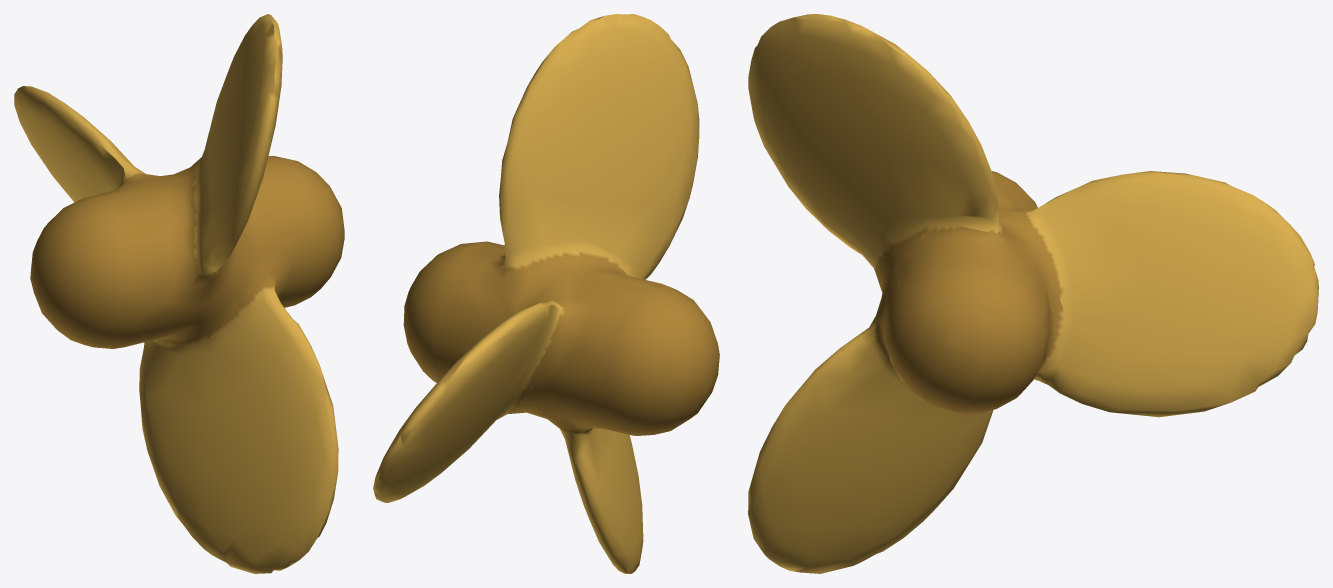
File: SM_Boat_Propeller.fbx
3 renders of one model, left to right at view 1: azimuth 30°, elevation 25°; view 2: azimuth 150°, elevation 25°; view 3: azimuth 270°, elevation 25°, orthographic. The views are drawn at different scales.
Visible parts, largest first — view 1: SM_Boat_Propeller; view 2: SM_Boat_Propeller; view 3: SM_Boat_Propeller.
Boxes of the visible parts, <box> form: SM_Boat_Propeller: <box>14,14,344,573</box>; SM_Boat_Propeller: <box>373,14,719,573</box>; SM_Boat_Propeller: <box>748,14,1318,573</box>.
Bounding box in the file's own units: 13.93 × 8.8 × 15.39.
Materials: 1 (1 with a texture image).
